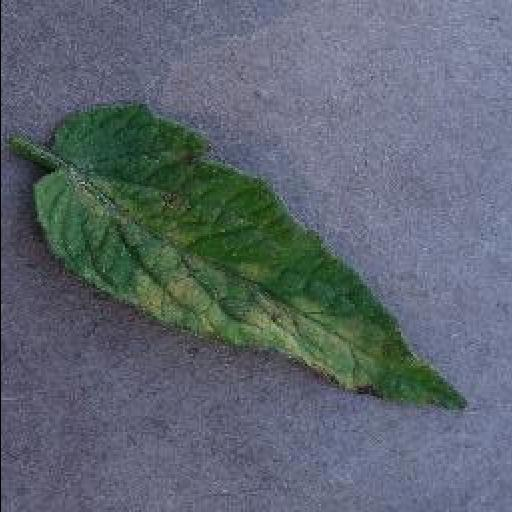disease_tomato: (36, 104, 470, 410)
